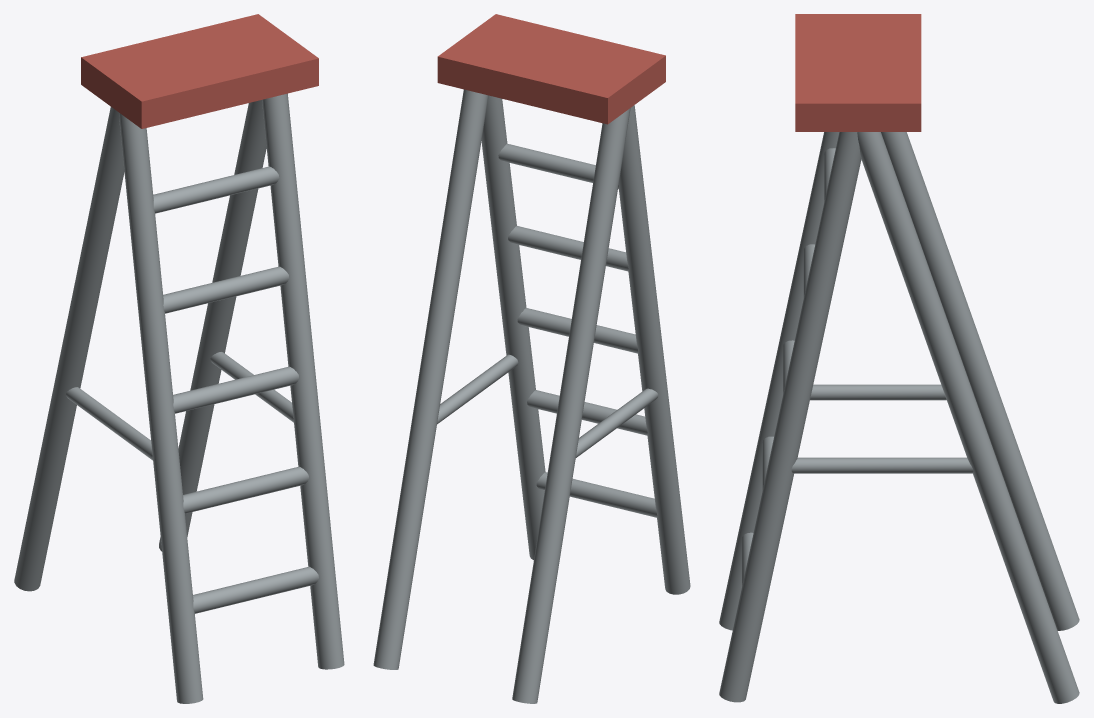
Rendered from folding_stepladder.glb.
3 renders of one model, left to right at view 1: azimuth 30°, elevation 25°; view 2: azimuth 150°, elevation 25°; view 3: azimuth 270°, elevation 25°, orthographic. The views are drawn at different scales.
Parts seen in each view (by area): view 1: top_platform_13, rail_1, rail_2, rear_leg_9, rear_leg_11, rung_7, rung_6, rung_5, rung_3, rung_4, brace_10, brace_12; view 2: top_platform_13, rear_leg_9, rear_leg_11, rail_1, rail_2, rung_7, rung_6, rung_3, rung_5, brace_10, rung_4, brace_12; view 3: rear_leg_11, rail_2, top_platform_13, rear_leg_9, rail_1, brace_12, brace_10.
Boxes of the visible parts, bbox=[...] form: top_platform_13: bbox=[81, 14, 318, 128]; rail_1: bbox=[119, 113, 203, 703]; rail_2: bbox=[262, 93, 344, 669]; rear_leg_9: bbox=[14, 107, 124, 591]; rear_leg_11: bbox=[159, 100, 266, 551]; rung_7: bbox=[153, 166, 279, 213]; rung_6: bbox=[163, 266, 289, 313]; rung_5: bbox=[173, 366, 298, 413]; rung_3: bbox=[193, 566, 318, 613]; rung_4: bbox=[183, 466, 308, 513]; brace_10: bbox=[66, 387, 152, 460]; brace_12: bbox=[210, 352, 293, 422]; top_platform_13: bbox=[437, 14, 665, 124]; rear_leg_9: bbox=[512, 108, 630, 703]; rear_leg_11: bbox=[373, 89, 488, 669]; rail_1: bbox=[618, 105, 690, 594]; rail_2: bbox=[481, 95, 545, 560]; rung_7: bbox=[498, 143, 618, 189]; rung_6: bbox=[508, 225, 628, 271]; rung_3: bbox=[536, 472, 657, 517]; rung_5: bbox=[517, 308, 638, 353]; brace_10: bbox=[576, 388, 658, 457]; rung_4: bbox=[527, 390, 647, 435]; brace_12: bbox=[437, 354, 518, 424]; rear_leg_11: bbox=[857, 132, 1079, 703]; rail_2: bbox=[719, 132, 861, 702]; top_platform_13: bbox=[795, 14, 921, 131]; rear_leg_9: bbox=[881, 132, 1079, 630]; rail_1: bbox=[719, 132, 839, 630]; brace_12: bbox=[791, 457, 973, 473]; brace_10: bbox=[810, 384, 946, 400].
Bounding box in the file's own units: 0.54 × 1.7 × 0.9169.
